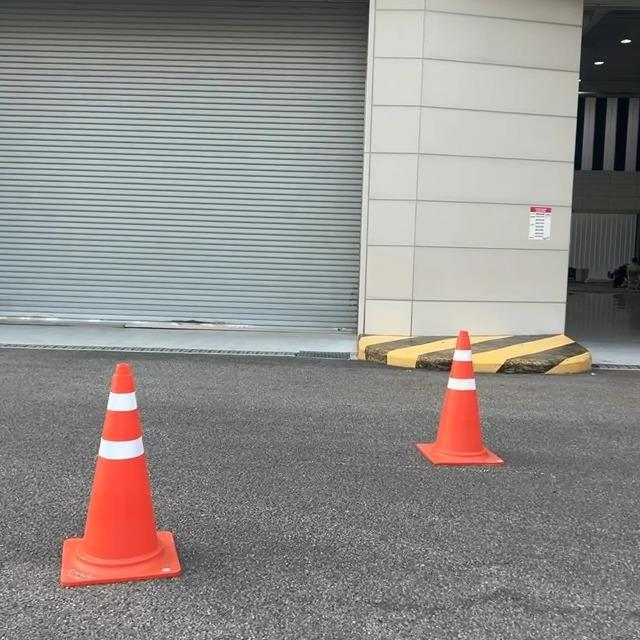fallen_object: (336, 306, 563, 517), (65, 327, 238, 602)
